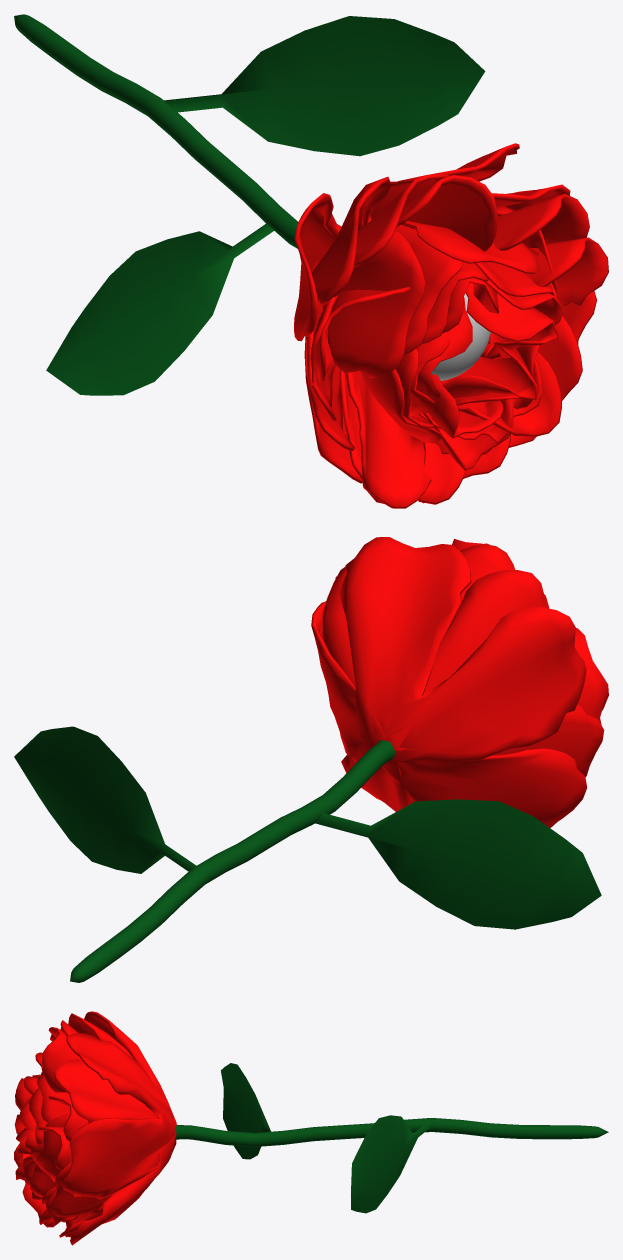
The model's file is Rose.obj.
3 views of the same model, one above another, from view 1: azimuth 30°, elevation 25°; view 2: azimuth 150°, elevation 25°; view 3: azimuth 270°, elevation 25° (orthographic). The views are drawn at different scales.
Visible parts, largest first — view 1: Circle.001_Circle.008, Circle.003_Circle.007, Plane.001, Plane, Cylinder, Sphere; view 2: Circle.001_Circle.008, Plane, Plane.001, Cylinder; view 3: Circle.001_Circle.008, Cylinder, Circle.003_Circle.007, Plane.001, Plane.
Part boxes in pixels (x1=…): Circle.001_Circle.008: x1=294, y1=143, x2=608, y2=508; Circle.003_Circle.007: x1=322, y1=220, x2=564, y2=470; Plane.001: x1=164, y1=16, x2=485, y2=156; Plane: x1=46, y1=222, x2=273, y2=395; Cylinder: x1=14, y1=14, x2=298, y2=248; Sphere: x1=431, y1=293, x2=490, y2=380; Circle.001_Circle.008: x1=311, y1=537, x2=608, y2=827; Plane: x1=315, y1=799, x2=601, y2=929; Plane.001: x1=14, y1=726, x2=196, y2=873; Cylinder: x1=70, y1=740, x2=395, y2=982; Circle.001_Circle.008: x1=22, y1=1011, x2=176, y2=1245; Cylinder: x1=175, y1=1118, x2=608, y2=1146; Circle.003_Circle.007: x1=14, y1=1071, x2=70, y2=1204; Plane.001: x1=351, y1=1115, x2=432, y2=1213; Plane: x1=220, y1=1063, x2=270, y2=1159.
Size of the model in its own units: 1.98 by 1.17 by 3.
